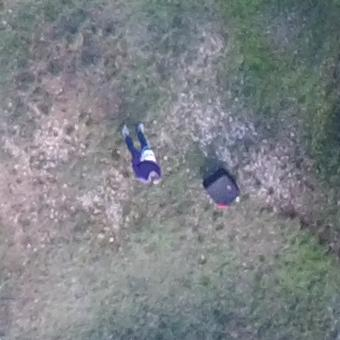human: (118, 122, 164, 186)
